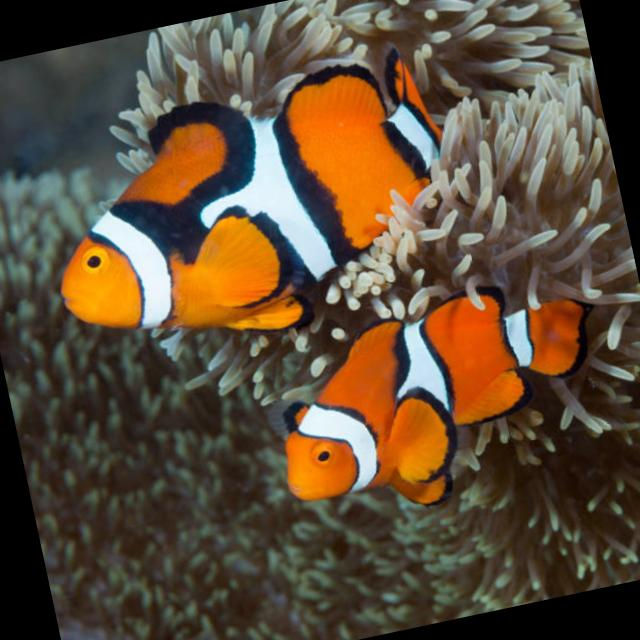ClownFish: (26, 41, 475, 374), (256, 266, 620, 536)
